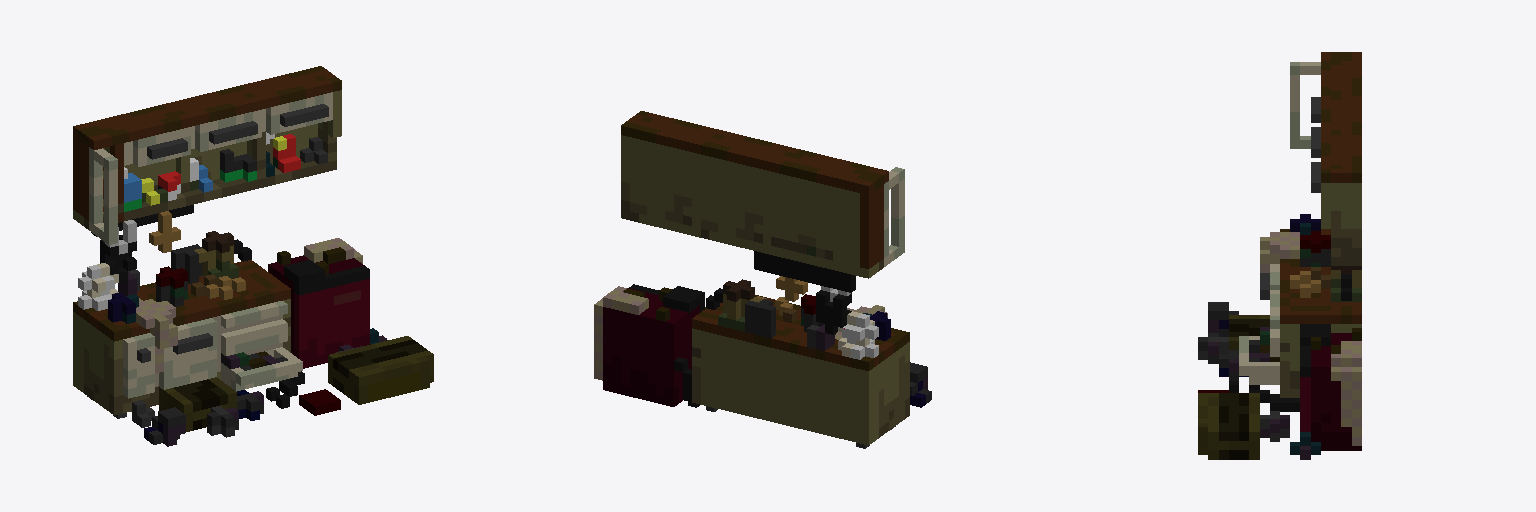
The picture shows the model from 3 angles: view 1: azimuth 30°, elevation 25°; view 2: azimuth 150°, elevation 25°; view 3: azimuth 270°, elevation 25°; orthographic projection.
Visible parts, largest first — view 1: Kitchen; view 2: Kitchen; view 3: Kitchen.
Boxes of the visible parts, <box> form: Kitchen: <box>73,66,433,446</box>; Kitchen: <box>594,111,931,448</box>; Kitchen: <box>1198,52,1361,459</box>.
Bounding box in the file's own units: 3.2 × 2.9 × 1.6.
1 materials, 1 textured.